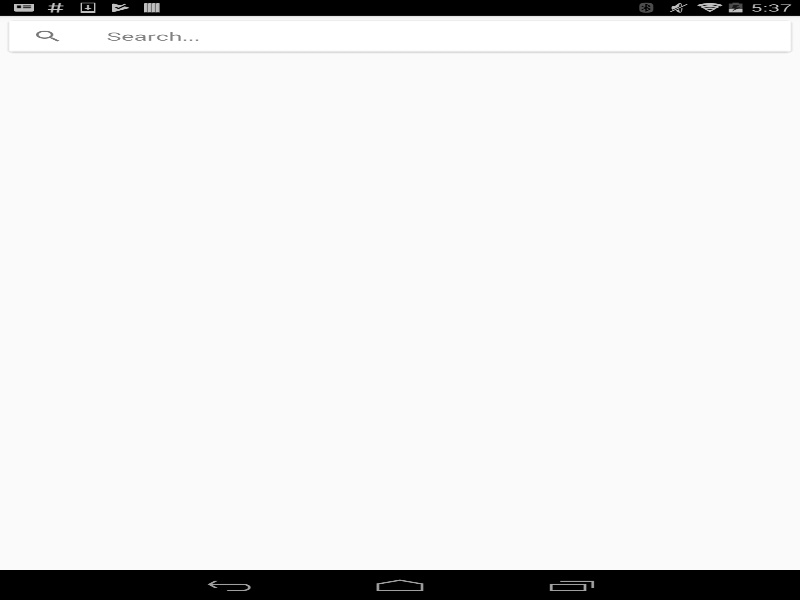Input: (106, 21, 789, 51)
